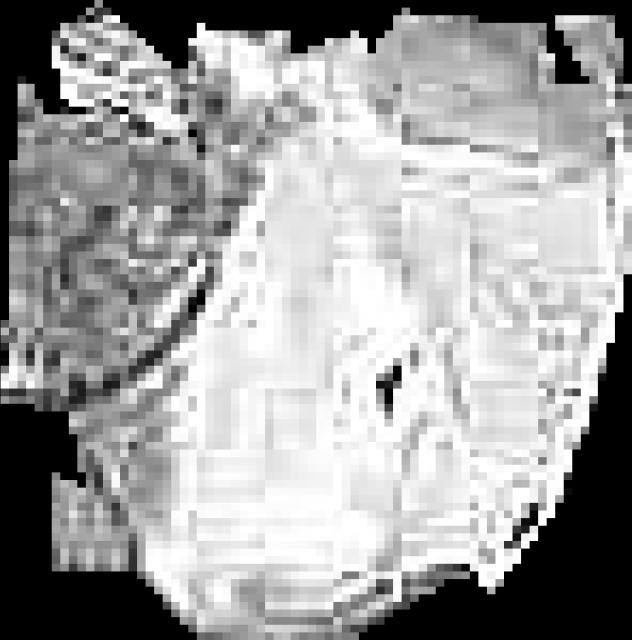tumor_moderate_chance: (1, 0, 632, 640)
